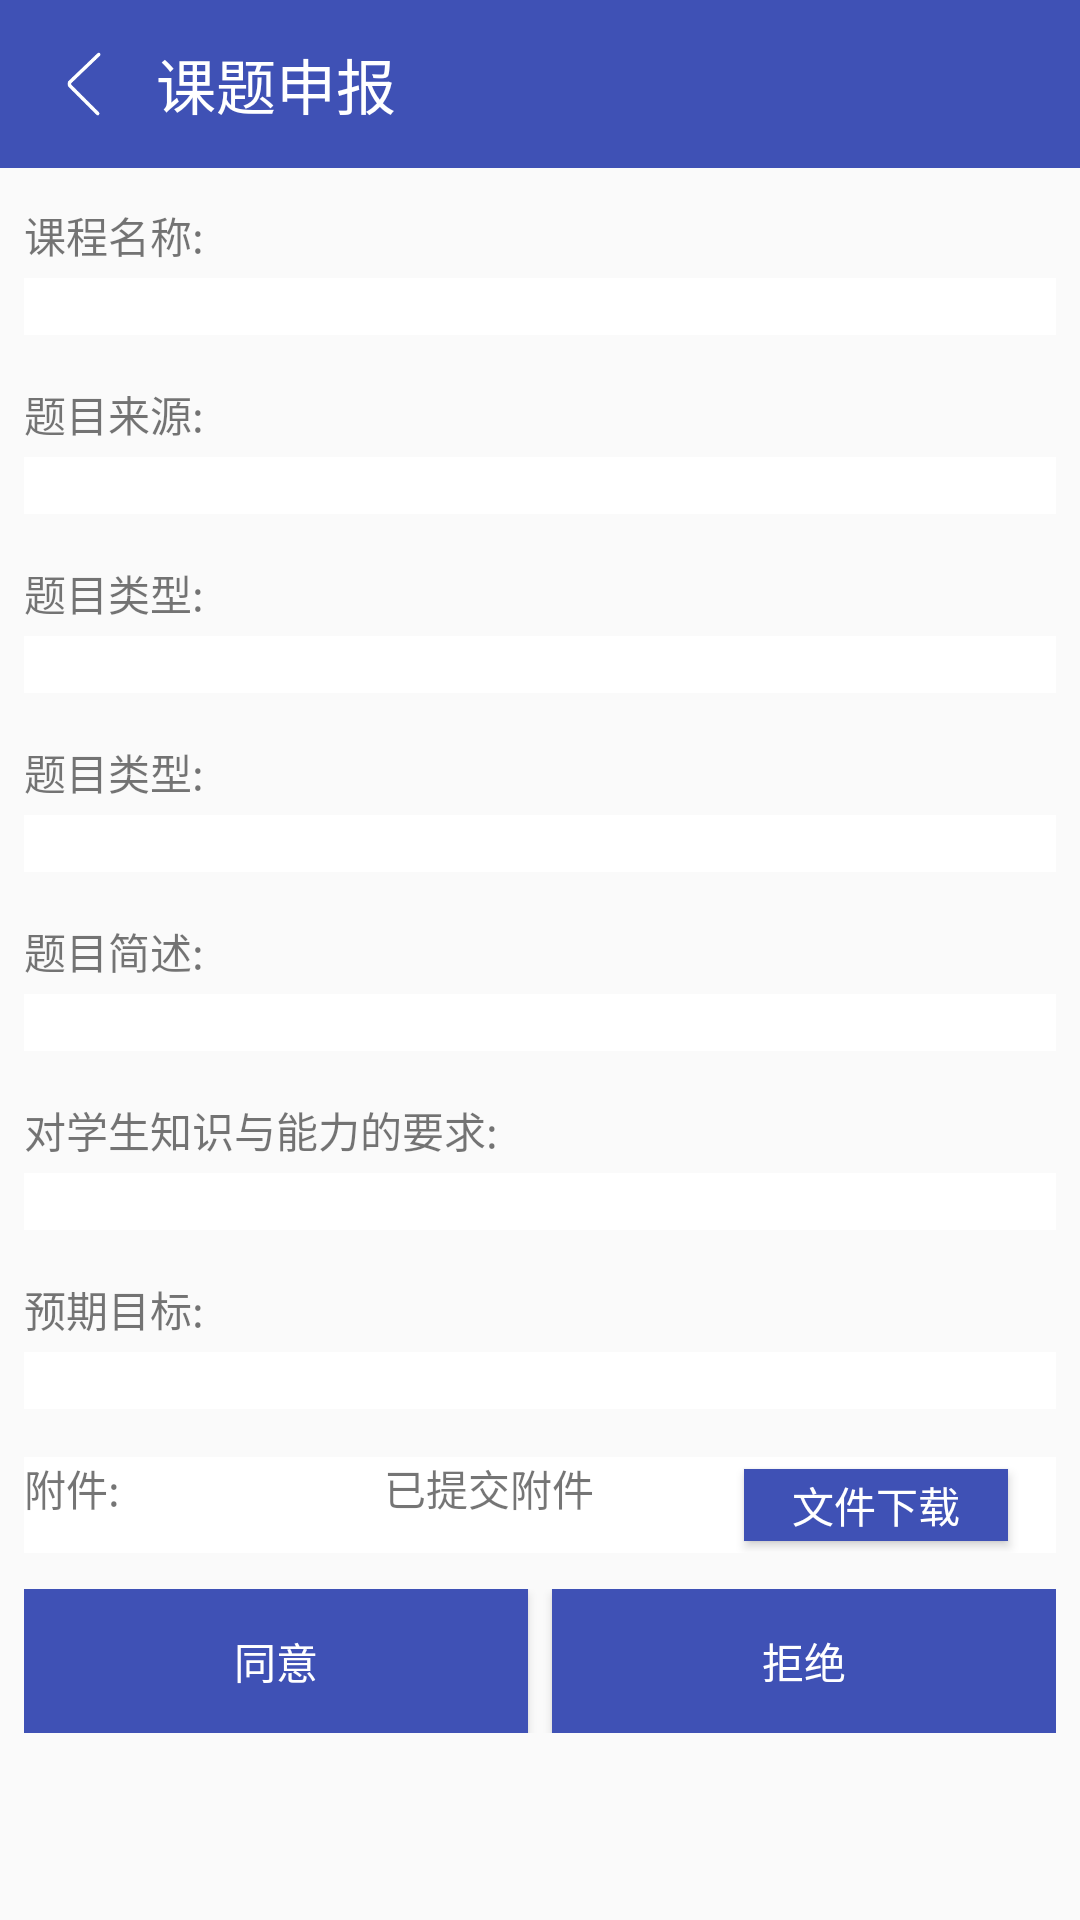

Icon bounding boxes for this 1080 x 1920 phone screenshot, format (x1, y1, x2, y2):
arrowleft: (67, 52, 101, 116)
